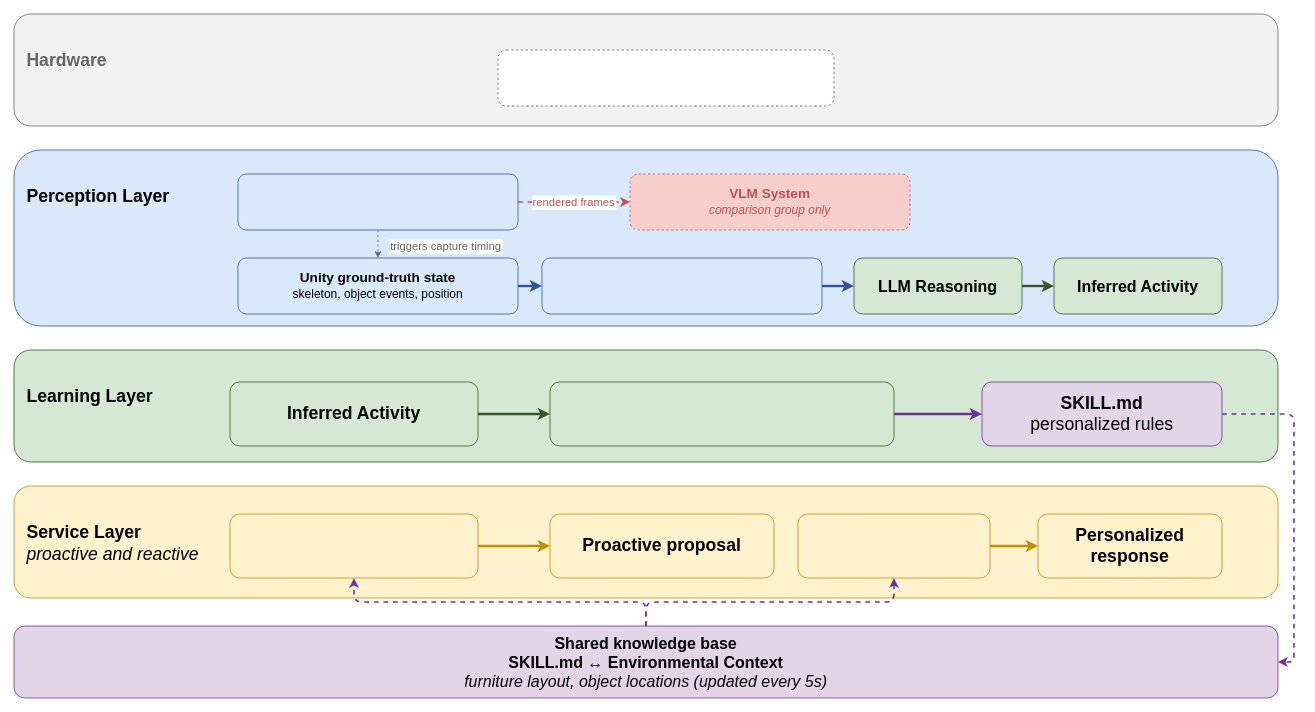
Some shapes in this 1315 by 712 pixel diagram are drawn without their labels. Each missing label, with the centre of its shape:
"2-step lookahead predict activity, propose service" belongs at pixel 353 545.
"Behavioral Pattern Accumulation (BPA)" belongs at pixel 721 413.
"Local Host RTX 2080 GPU, MongoDB, Ollama" belongs at pixel 665 77.
"Skeleton + Object + Spatial features" belongs at pixel 681 285.
"User input" belongs at pixel 893 545.
"Virtual Camera Nodes (Unity) 12 nodes, 3 rooms" belongs at pixel 377 201.
